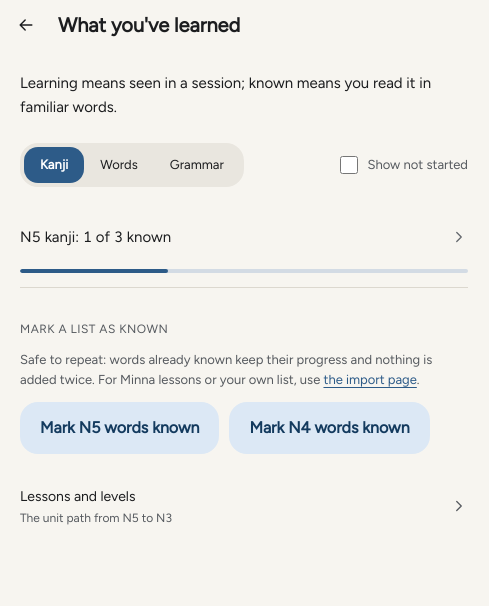
LearnedScreen › shows kanji coverage per level and links a kanji to its page
This screenshot has width=489, height=606.
Click the button "N5 kanji: 1 of 3 known": click(96, 237) [20, 211, 468, 263]
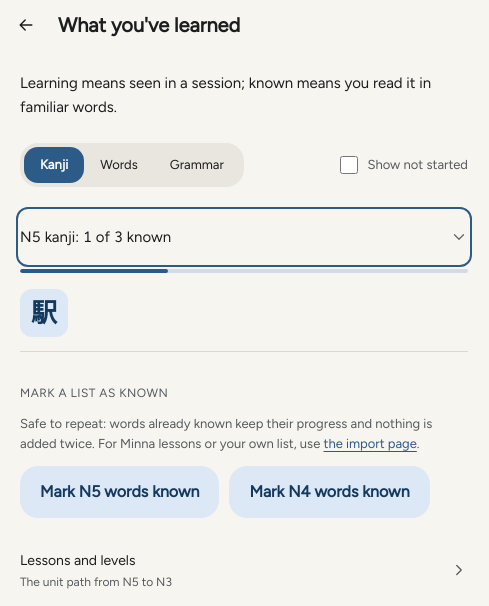
Now the button "N5 kanji: 1 of 3 known" is expanded, box [20, 211, 468, 263]
Click the checkbox labelled "Show not started": click(348, 165) [340, 156, 358, 174]
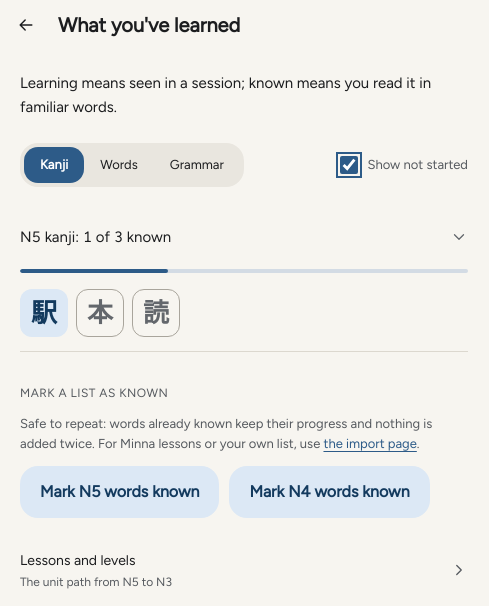
Now the link named "本, not started" is shown, box [76, 289, 124, 337]
